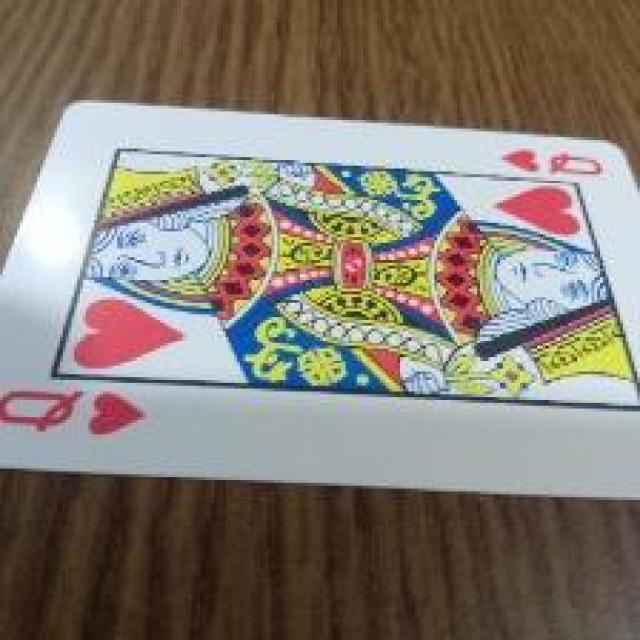Queen of hearts: (0, 103, 639, 501)
